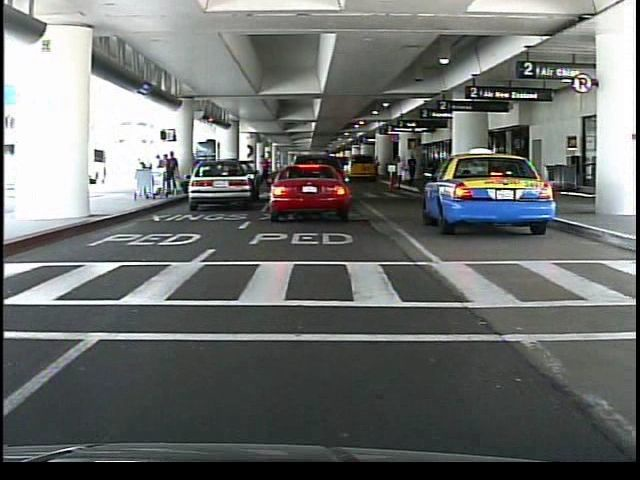person: (169, 150, 183, 201), (323, 155, 337, 202), (260, 154, 275, 192), (395, 154, 409, 190), (308, 165, 320, 202), (409, 154, 420, 185)
